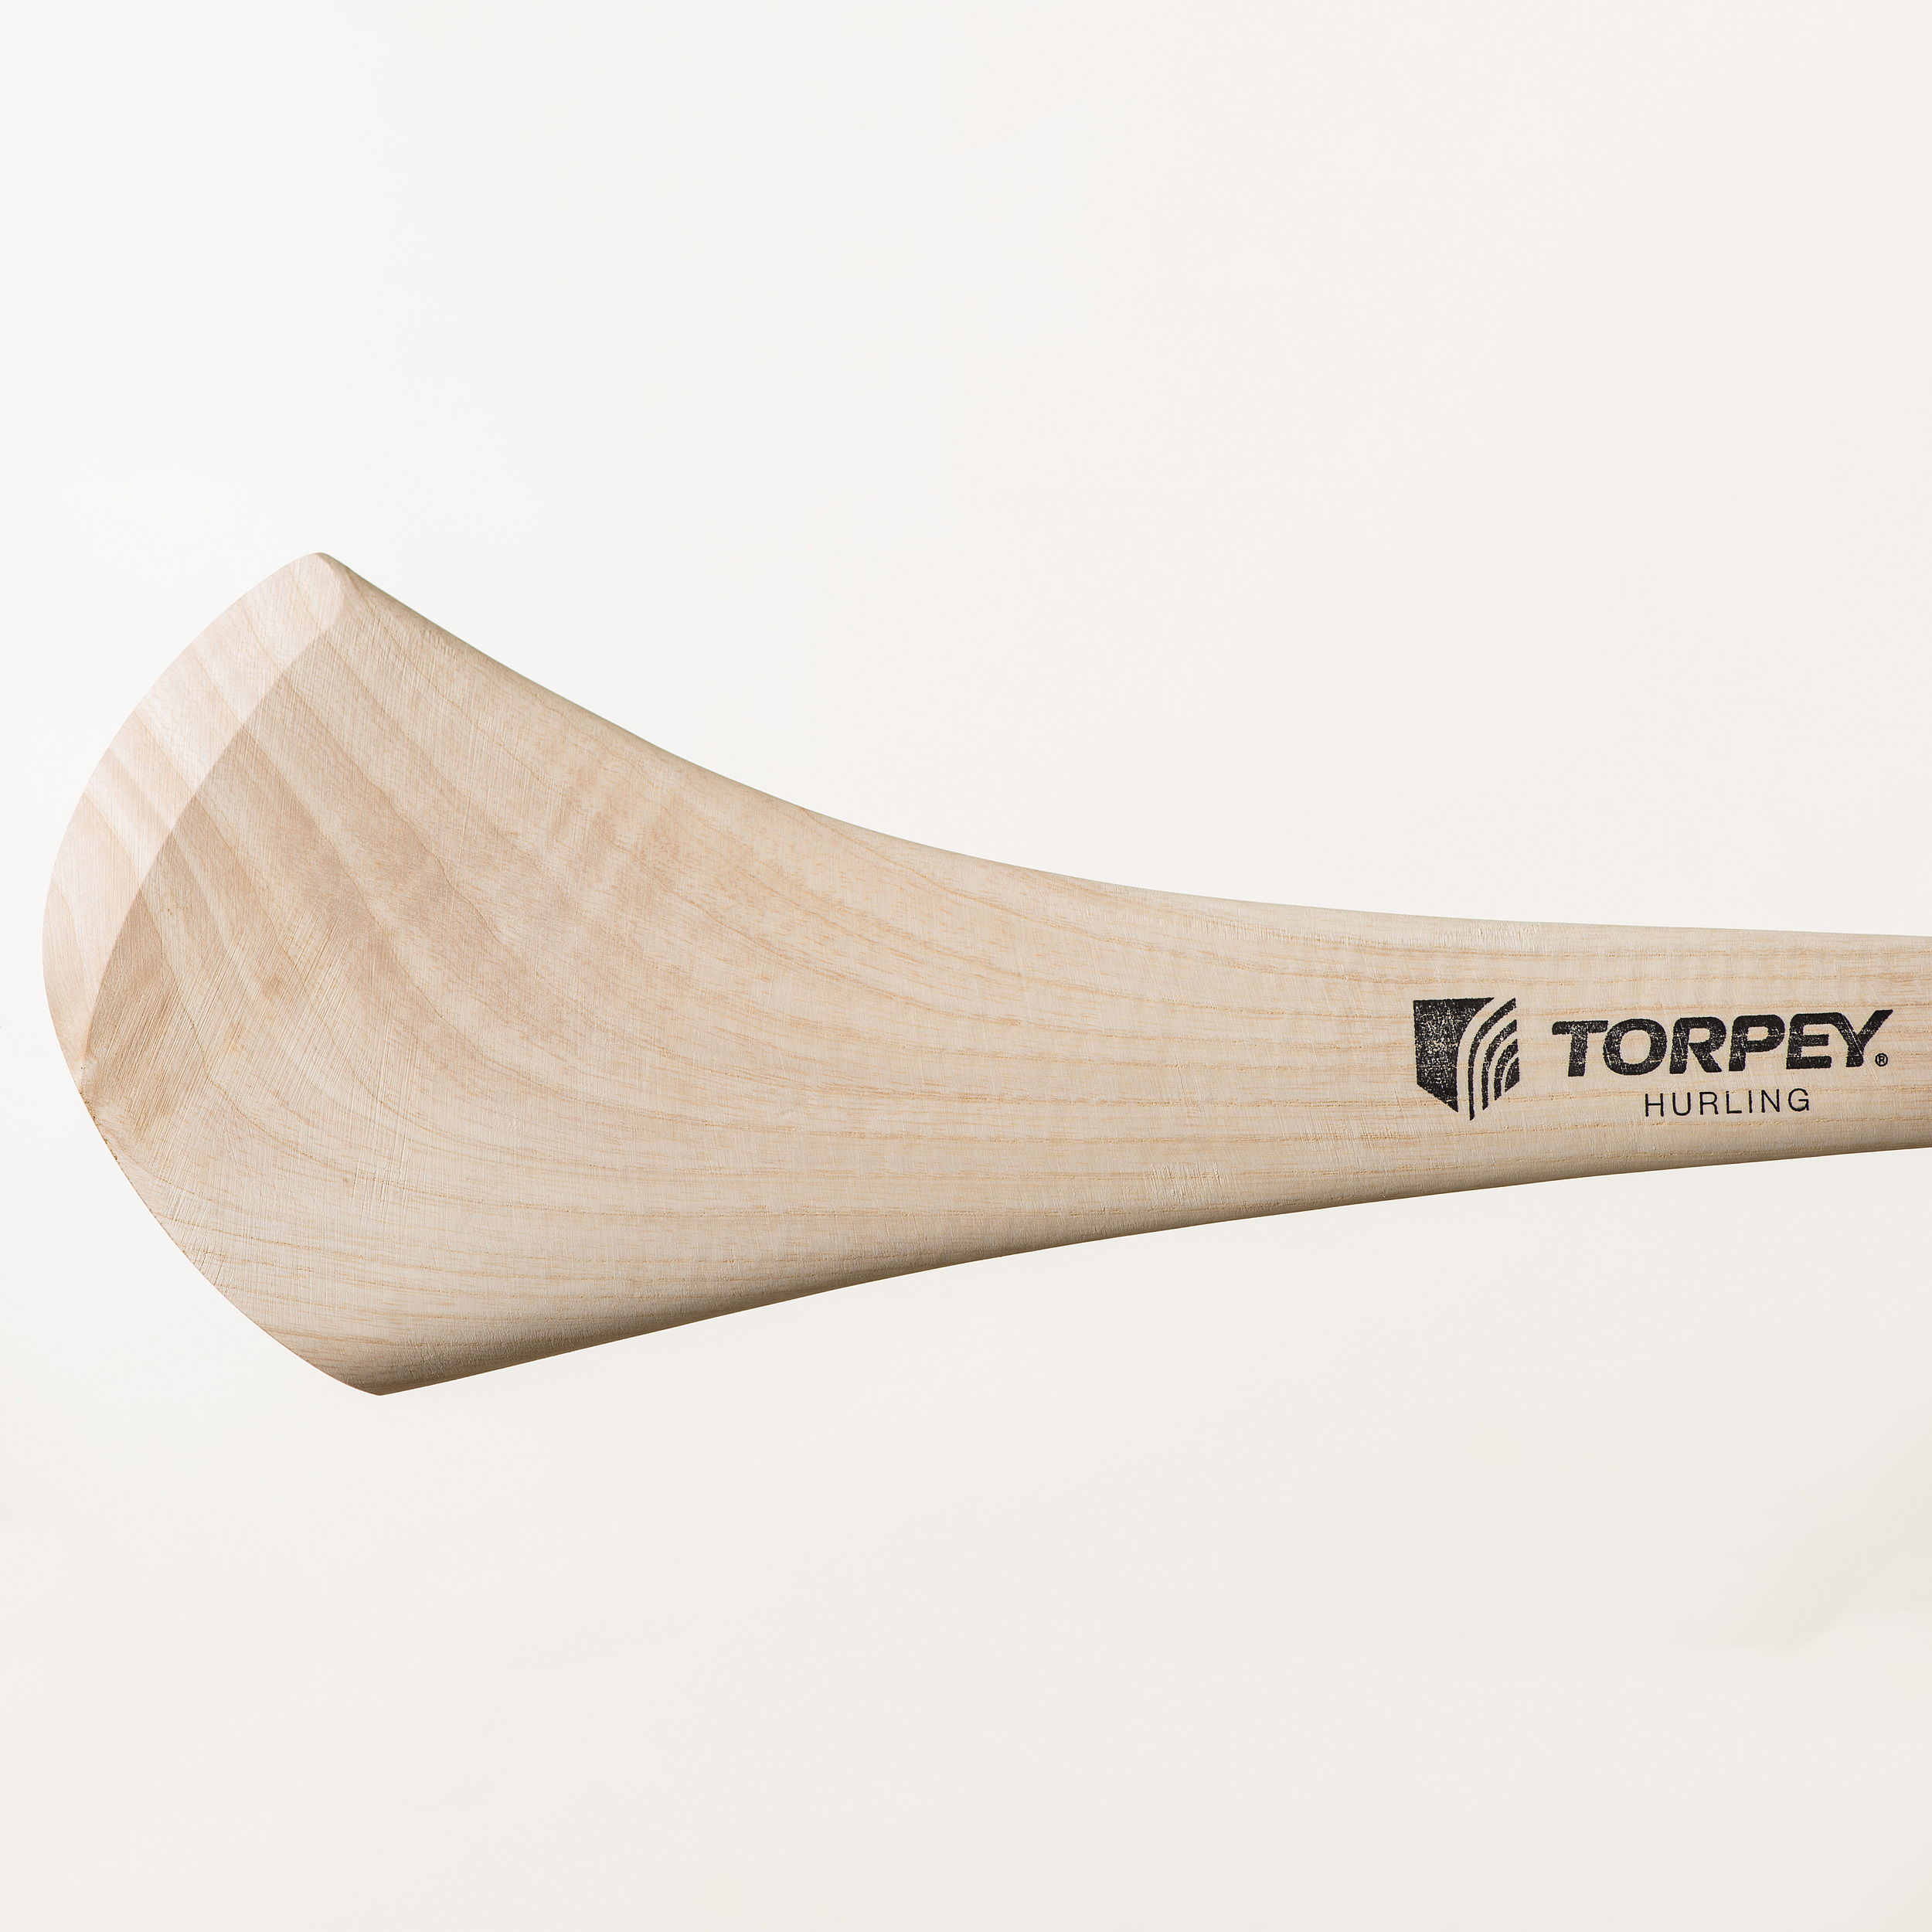hurley: (35, 548, 1932, 1405)
